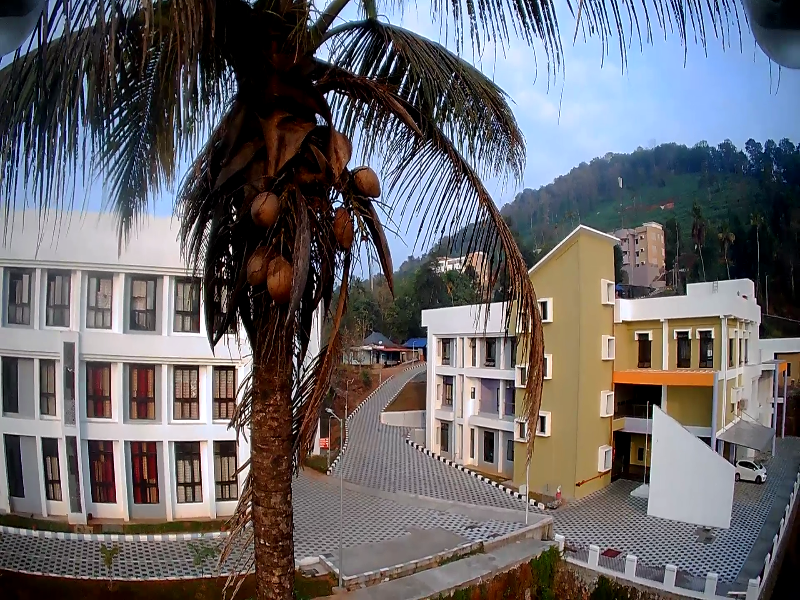coconut: (345, 161, 374, 200), (255, 186, 279, 228), (263, 250, 288, 288), (332, 202, 343, 247), (251, 248, 261, 280)
